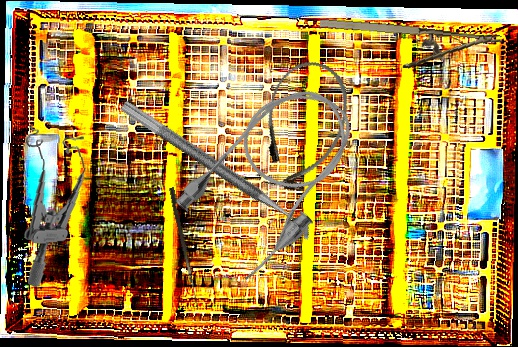Cannula: (165, 65, 382, 289), (245, 52, 361, 201)
Fixation Ring: (109, 98, 317, 254)
Hook Surgical: (166, 187, 205, 310)
Needle Holder: (315, 13, 503, 80)
Speculum: (14, 119, 97, 289)
